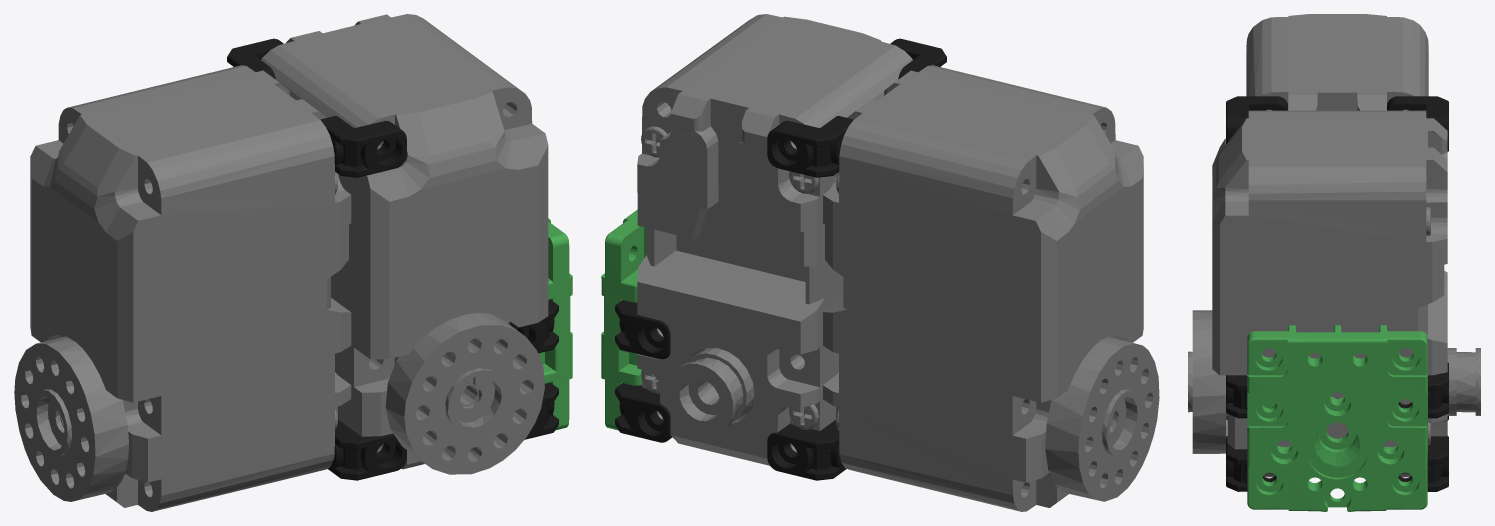
Rendered from bone14.DAE.
3 renders of one model, left to right at view 1: azimuth 30°, elevation 25°; view 2: azimuth 150°, elevation 25°; view 3: azimuth 270°, elevation 25°, orthographic. The views are drawn at different scales.
Parts seen in each view (by area): view 1: through_all_screw_holes (×2), screw_holes (×2), Imported1 (×6); view 2: through_all_screw_holes (×2), Imported1 (×6), screw_holes, O3.0__3__Diameter_Hole1; view 3: through_all_screw_holes (×2), Imported1 (×7), screw_holes, O3.0__3__Diameter_Hole1.
Part boxes in pixels (bbox=[...]): through_all_screw_holes (×2): bbox=[30, 14, 548, 511]; screw_holes (×2): bbox=[14, 313, 544, 501]; Imported1 (×6): bbox=[227, 38, 572, 480]; through_all_screw_holes (×2): bbox=[637, 14, 1143, 511]; Imported1 (×6): bbox=[601, 38, 946, 480]; screw_holes: bbox=[1045, 336, 1159, 501]; O3.0__3__Diameter_Hole1: bbox=[667, 348, 754, 434]; through_all_screw_holes (×2): bbox=[1212, 14, 1447, 477]; Imported1 (×7): bbox=[1226, 96, 1448, 511]; screw_holes: bbox=[1188, 310, 1227, 453]; O3.0__3__Diameter_Hole1: bbox=[1447, 348, 1480, 415].
Size of the model in its own units: 63.65 by 38.6 by 46.05.
